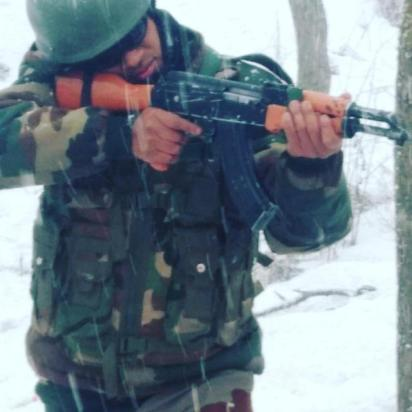Gun: (50, 67, 412, 237)
